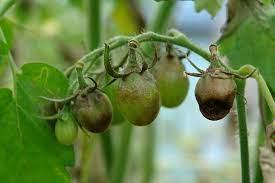tomato late blight: (60, 61, 126, 136), (101, 70, 164, 128), (195, 66, 241, 122)
